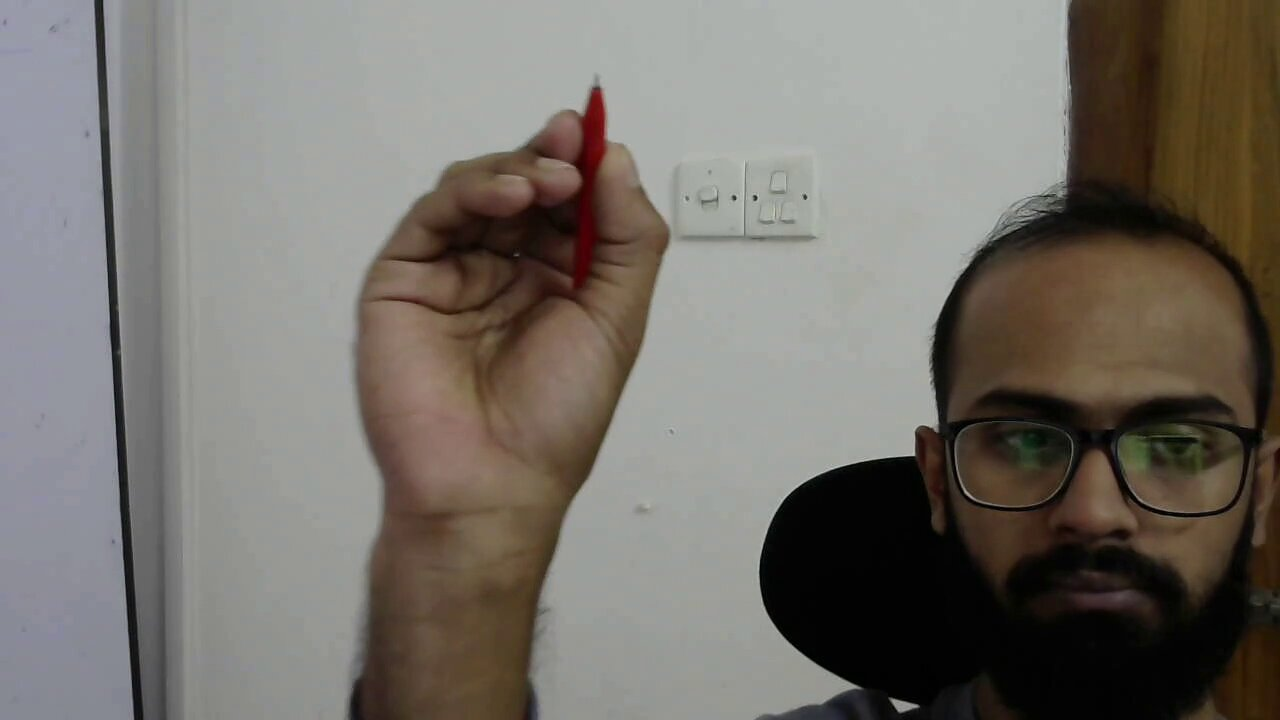pointer: (354, 110, 674, 455)
